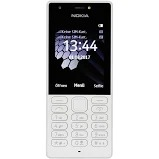nokia: (45, 1, 117, 158)
